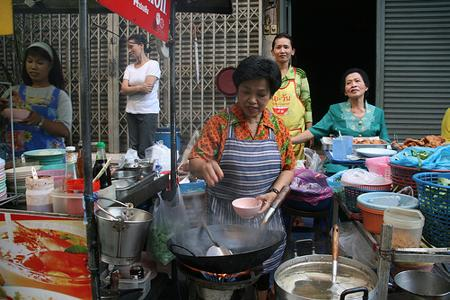person: (181, 57, 296, 293)
